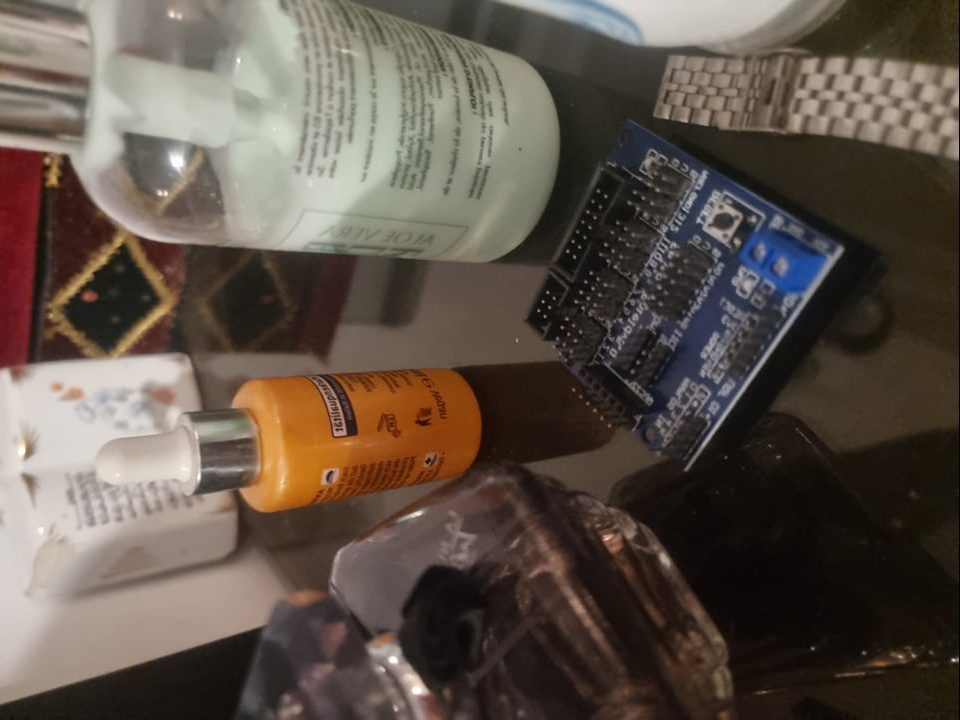5V EXPANSION: (525, 116, 846, 476)
